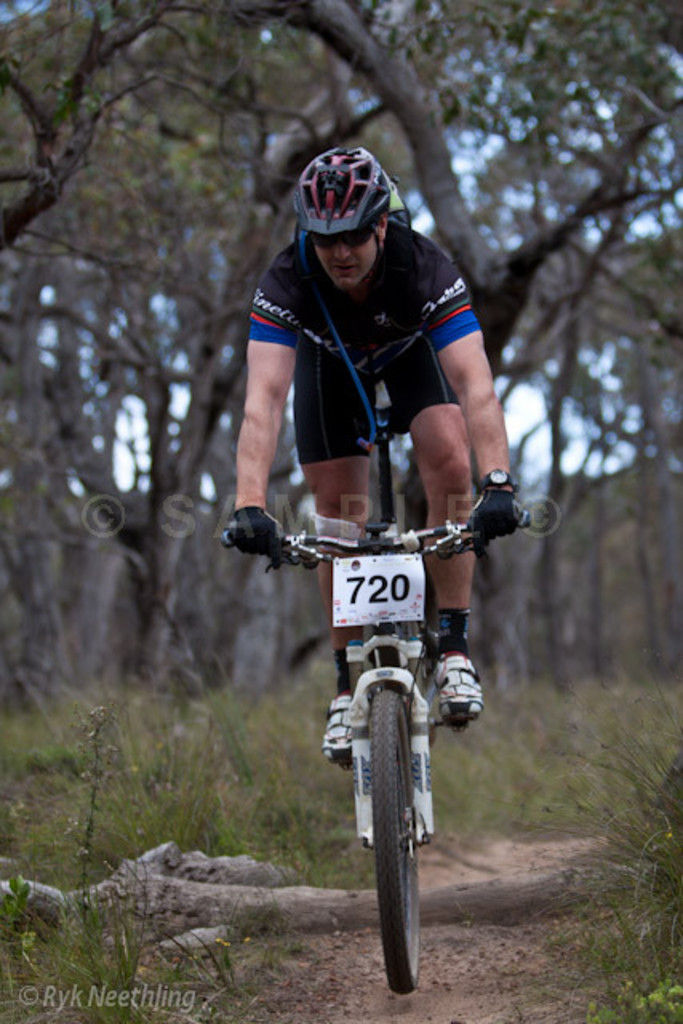Bike_toward: (222, 471, 534, 990)
